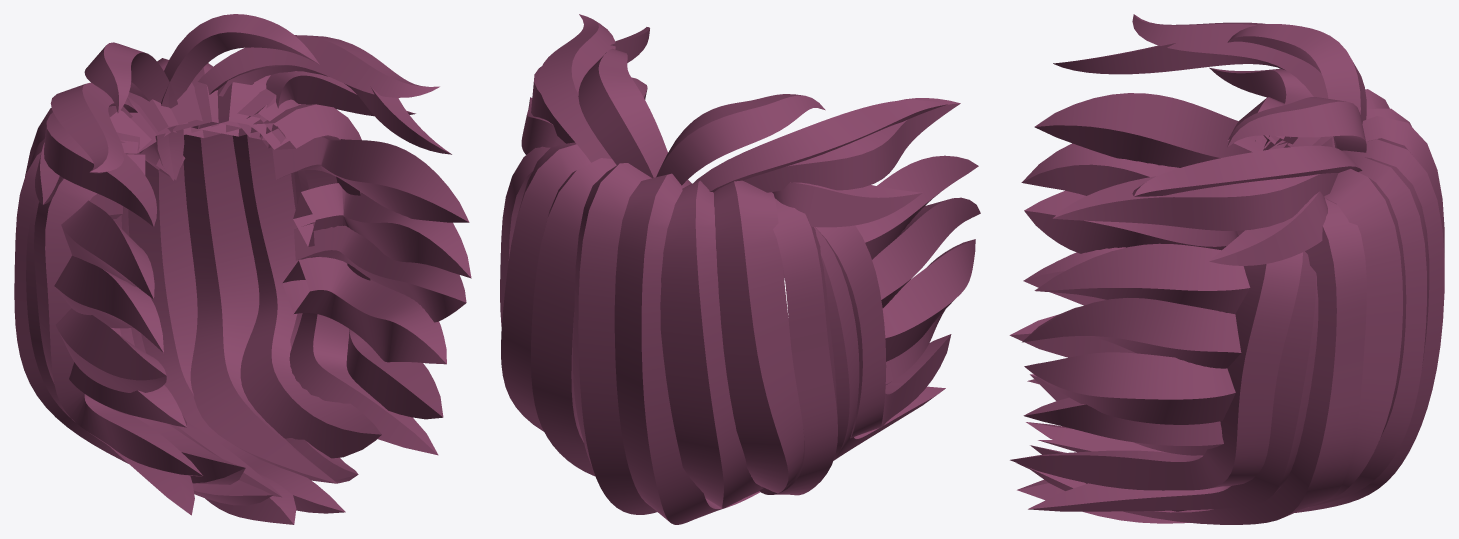
The model's file is Body_006.fbx.
3 renders of one model, left to right at view 1: azimuth 30°, elevation 25°; view 2: azimuth 150°, elevation 25°; view 3: azimuth 270°, elevation 25°, orthographic. The views are drawn at different scales.
Visible parts, largest first — view 1: Body.006; view 2: Body.006; view 3: Body.006.
Part boxes in pixels (x1,y1,x2,y2): Body.006: (14,14,471,524); Body.006: (500,14,980,524); Body.006: (1009,14,1444,524).
Size of the model in its own units: 111 by 118 by 105.
